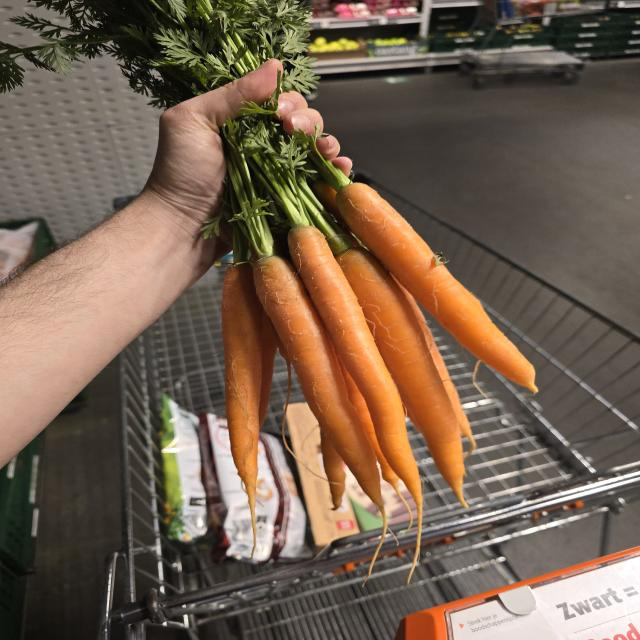Carrot: (335, 183, 538, 393), (288, 226, 422, 513), (336, 247, 470, 507), (254, 256, 384, 512), (222, 262, 276, 518)
